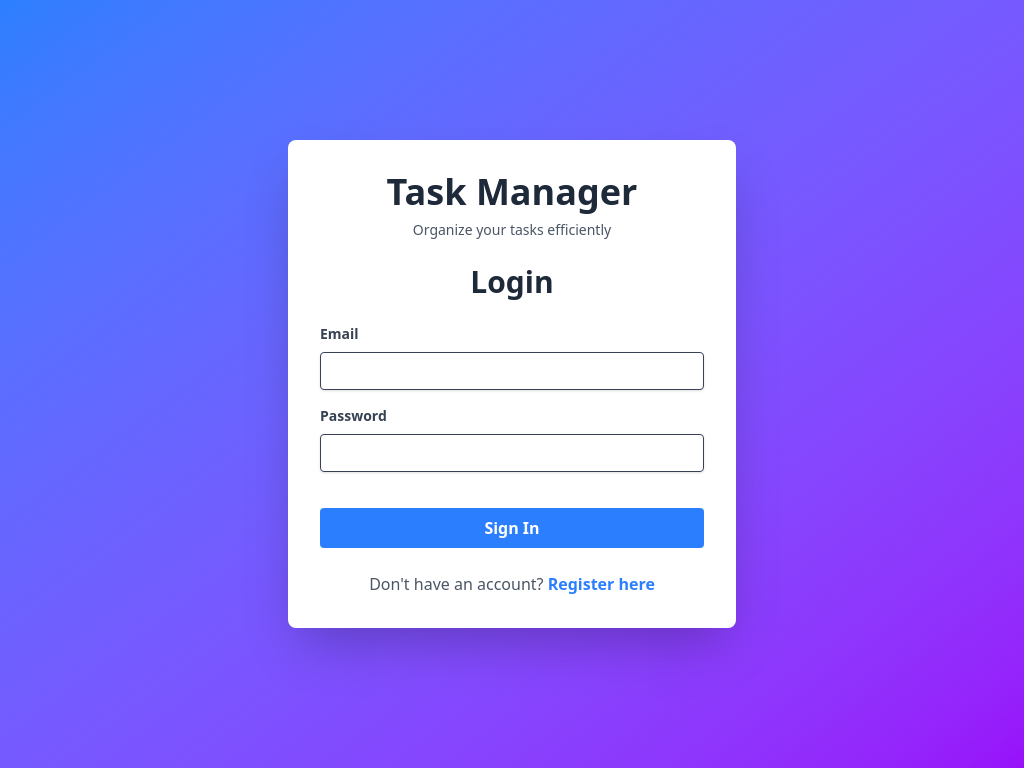
Test: Login Component › displays error message for too many failed attempts
This screenshot has width=1024, height=768.
Type "test@example.com" into the field labelled "Email" at (512, 371), box [320, 352, 704, 390]
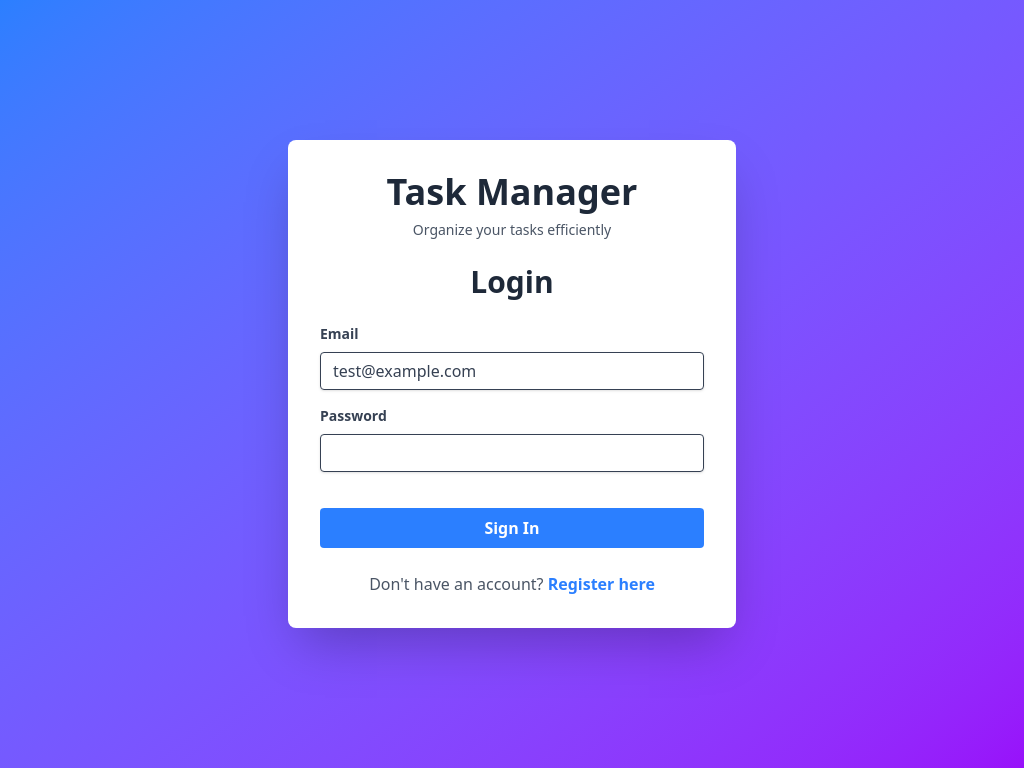
Type "wrongpassword" into the password field labelled "Password" at (512, 453), box [320, 434, 704, 472]
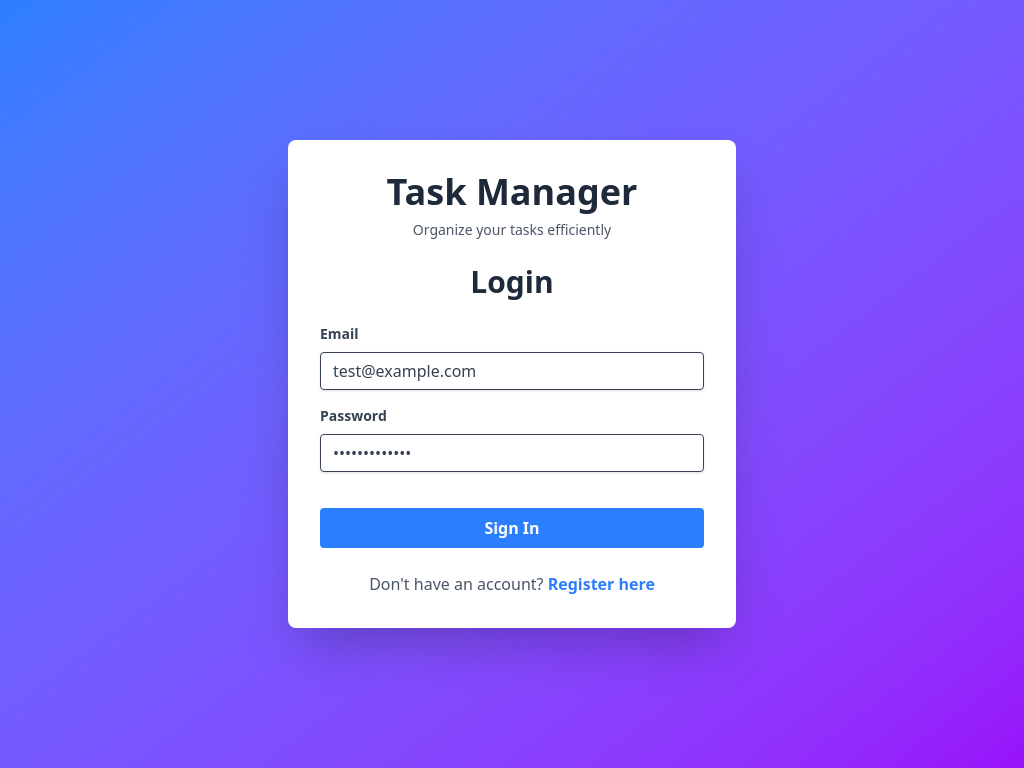
Click the button "Sign In" at (512, 528), box [320, 508, 704, 548]
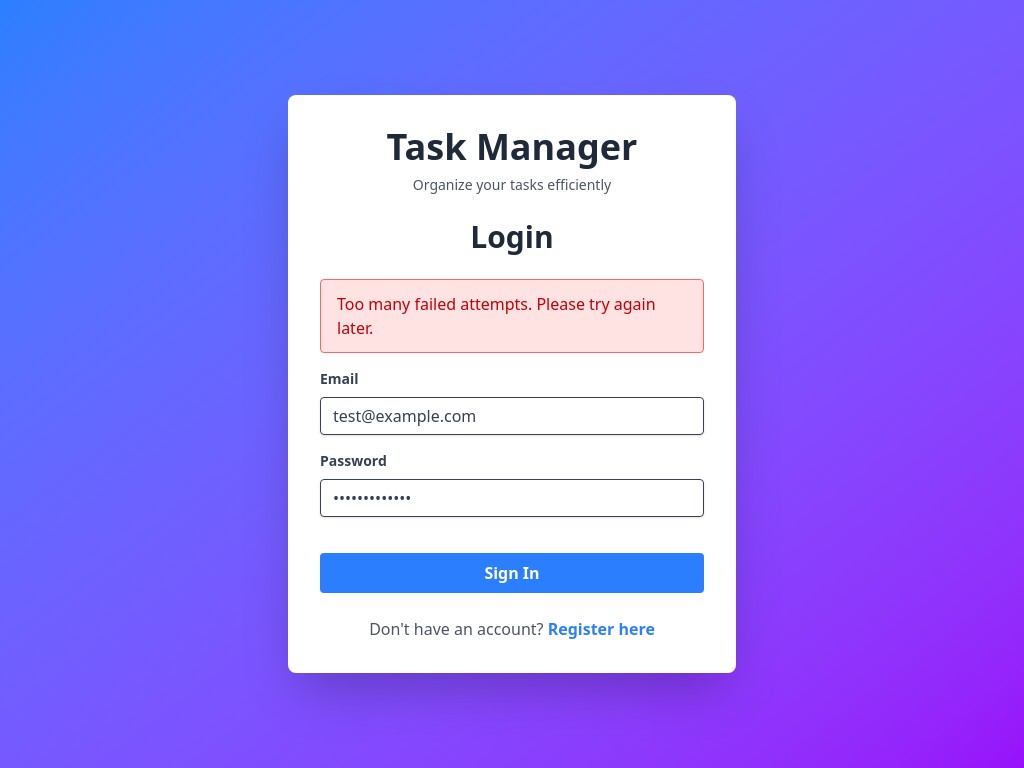
Check: the text "Too many failed attempts. Please try again later." is shown, box [320, 279, 704, 353]
